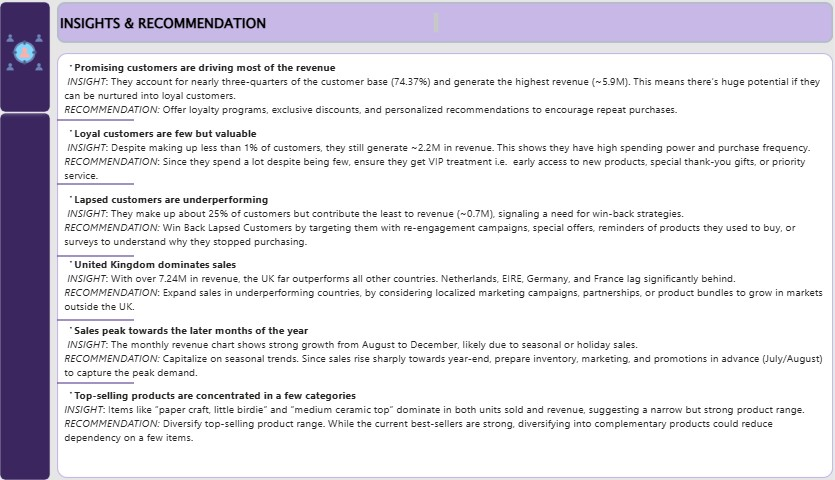

Layout of this report page (visuals, bound fields, positions):
{"tool":"powerbi","page":{"name":"Insights & Recomm.","canvas":[1280,720],"ordinal":1},"visuals":[{"type":"textbox","box":[291.2,0,989.3,106.8],"z":1000},{"type":"textbox","box":[291.2,0,965.9,106.8],"z":2000},{"type":"shape","box":[0,0,291.2,720],"z":2500,"group":"g1"},{"type":"group","id":"g1","title":"Group 1","box":[0,0,291.2,720],"z":3000},{"type":"group","id":"g2","title":"Group 2","box":[291.2,120,989.3,600],"z":4000},{"type":"textbox","box":[291.2,120,989.3,368.8],"z":4000,"group":"g2"},{"type":"pivotTable","title":"Default Rate by Loan Duration ","fields":{"Values":["Sum(GermanCredit.Observation_ID)"],"Rows":["GermanCredit.Loan duration"]},"box":[7.3,194.6,273.7,146.3],"z":6000,"group":"g1"},{"type":"pivotTable","title":"Default Rate by Residency Status","fields":{"Values":["Sum(GermanCredit.Observation_ID)"],"Rows":["GermanCredit.foreign_worker"]},"box":[20.5,360,283.9,146.3],"z":6500},{"type":"textbox","box":[291.2,500.5,989.3,219.5],"z":8000,"group":"g2"},{"type":"image","box":[58.6,45.7,148.6,148.6],"z":8500,"group":"g1"},{"type":"barChart","title":"Default Rate by Marital Status","fields":{"Category":["GermanCredit.personal_status"],"Y":["GermanCredit.Defaulters"]},"box":[0,502,291.2,218],"z":9000,"group":"g1"}]}

Visuals, with their boxes in screenshot pixels (x1, y1, x2, y2), scaled from the page's 1280x720 canvas onto the 835x480 screenshot:
textbox: BBox(190, 0, 834, 71)
textbox: BBox(190, 0, 820, 71)
shape: BBox(0, 0, 190, 479)
"Group 1" group: BBox(0, 0, 190, 479)
"Group 2" group: BBox(190, 80, 834, 479)
textbox: BBox(190, 80, 834, 326)
"Default Rate by Loan Duration " pivotTable: BBox(5, 130, 183, 227)
"Default Rate by Residency Status" pivotTable: BBox(13, 240, 199, 338)
textbox: BBox(190, 334, 834, 479)
image: BBox(38, 30, 135, 130)
"Default Rate by Marital Status" barChart: BBox(0, 335, 190, 479)
